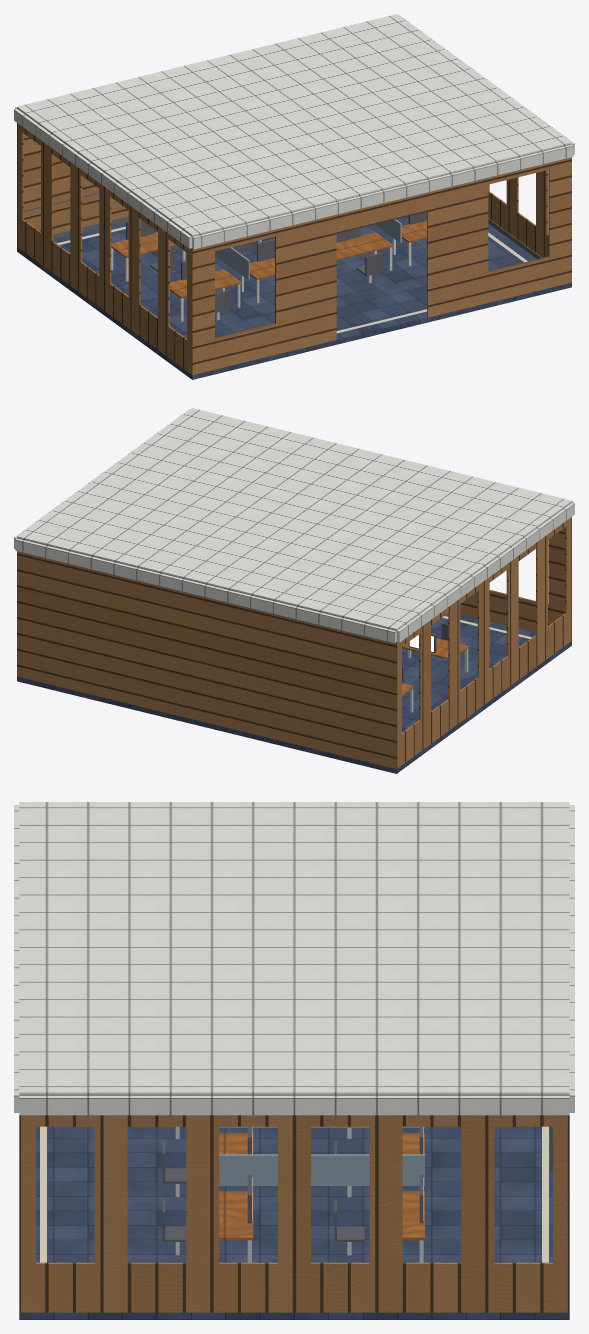
File: spaces-int-desk.glb
The picture shows the model from 3 angles, top to bottom: view 1: azimuth 30°, elevation 25°; view 2: azimuth 150°, elevation 25°; view 3: azimuth 270°, elevation 25°; orthographic projection. The views are drawn at different scales.
Visible parts, largest first — view 1: desk interior; view 2: desk interior; view 3: desk interior.
Boxes of the visible parts, x1,y1,x2,y2 form: desk interior: (14,14,574,379); desk interior: (14,408,574,773); desk interior: (14,802,574,1319).
Bounding box in the file's own units: 10.16 × 3.65 × 8.16.
Materials: 10 (4 with a texture image).
